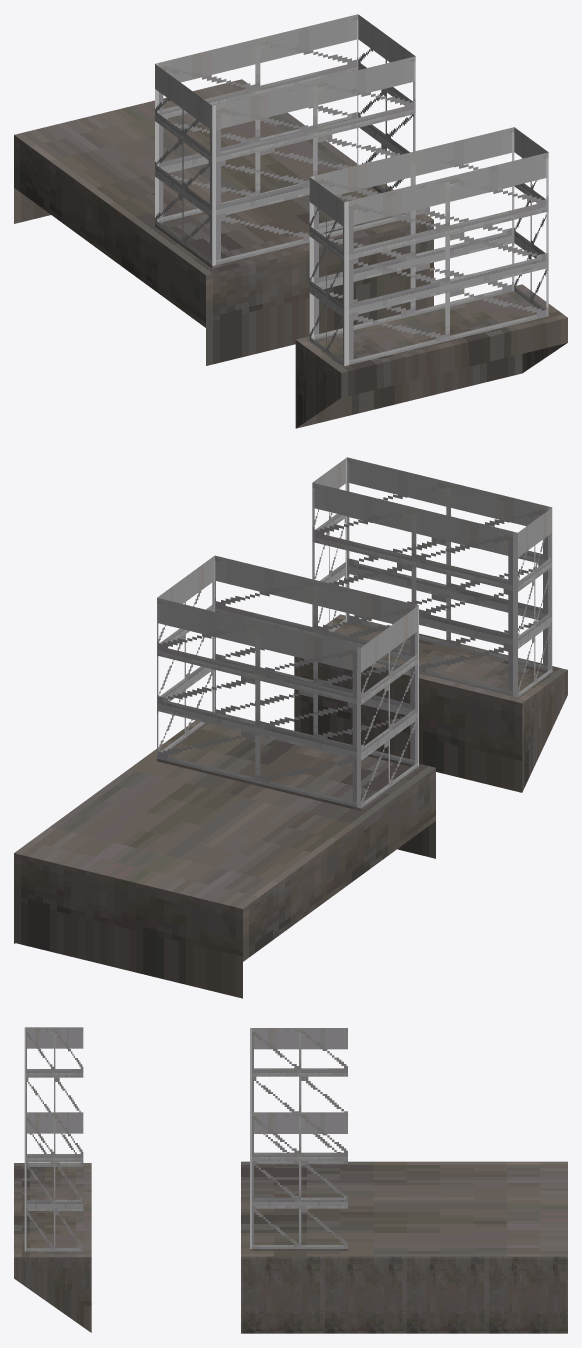
File: lodd_46_sfw.obj
The picture shows the model from 3 angles, top to bottom: view 1: azimuth 30°, elevation 25°; view 2: azimuth 150°, elevation 25°; view 3: azimuth 270°, elevation 25°; orthographic projection. The views are drawn at different scales.
Visible parts, largest first — view 1: LODd_46_sfw; view 2: LODd_46_sfw; view 3: LODd_46_sfw.
Boxes of the visible parts, x1,y1,x2,y2 form: LODd_46_sfw: (14,14,567,428); LODd_46_sfw: (14,457,567,998); LODd_46_sfw: (14,1027,567,1333).
Size of the model in its own units: 44.32 by 47.08 by 109.
Materials: 2 (2 with a texture image).
